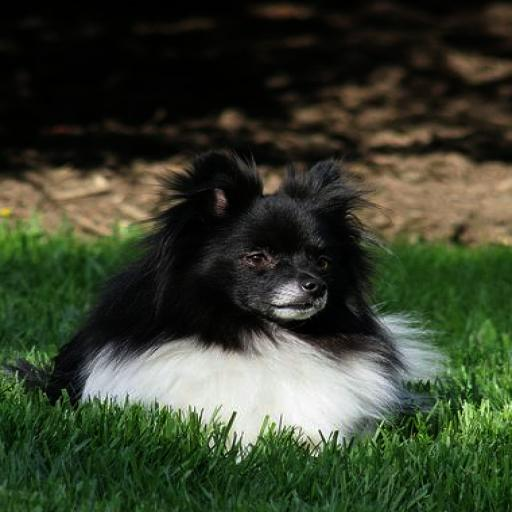dog_face: (179, 146, 384, 322)
